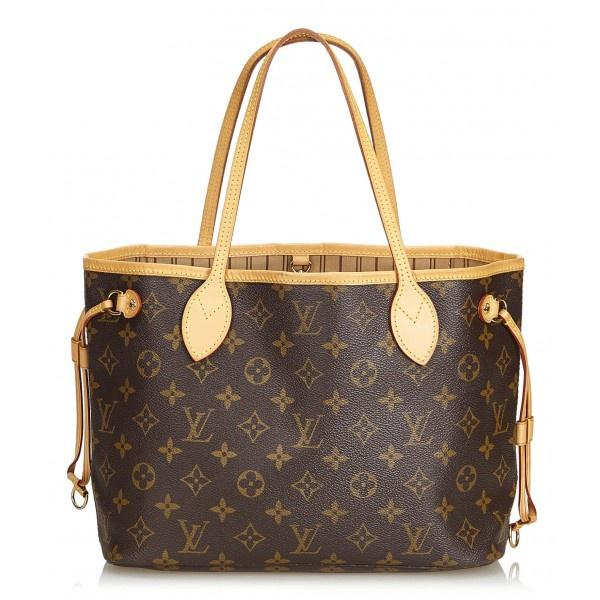LOUIS-VUITTON: (79, 247, 525, 574)
